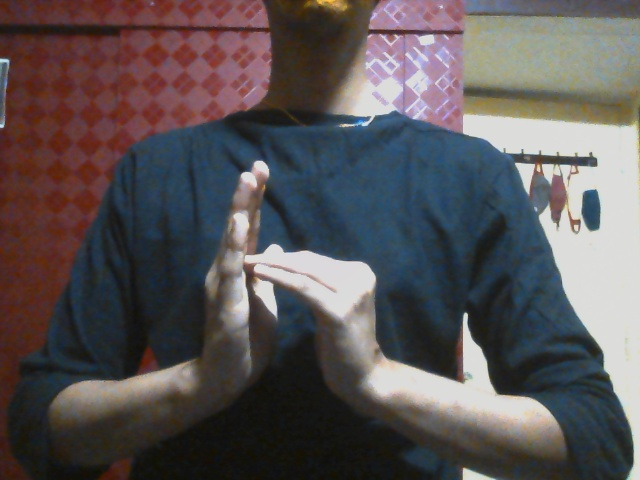Z: (182, 158, 394, 426)
